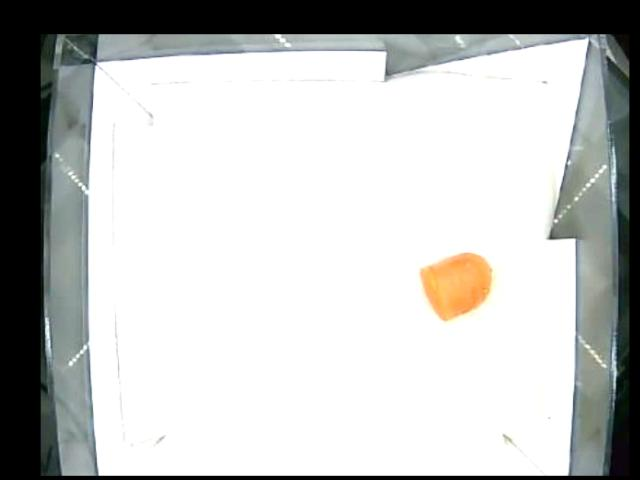Carrot: (418, 253, 493, 322)
